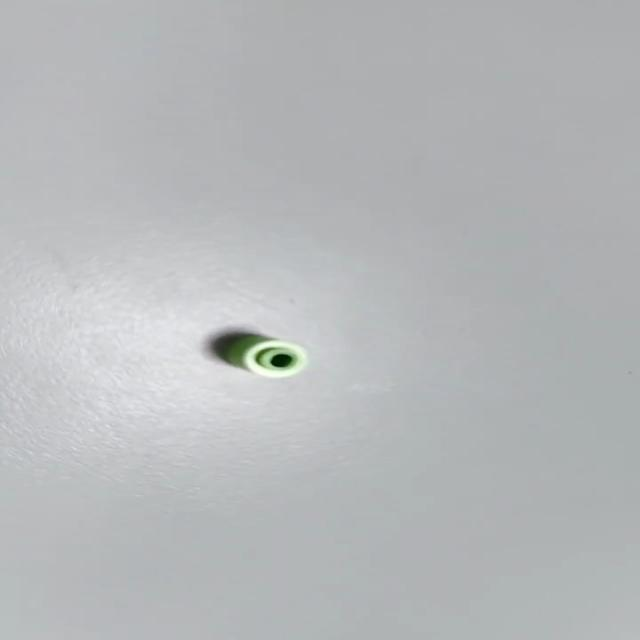S1x1x1: (207, 329, 310, 379)
